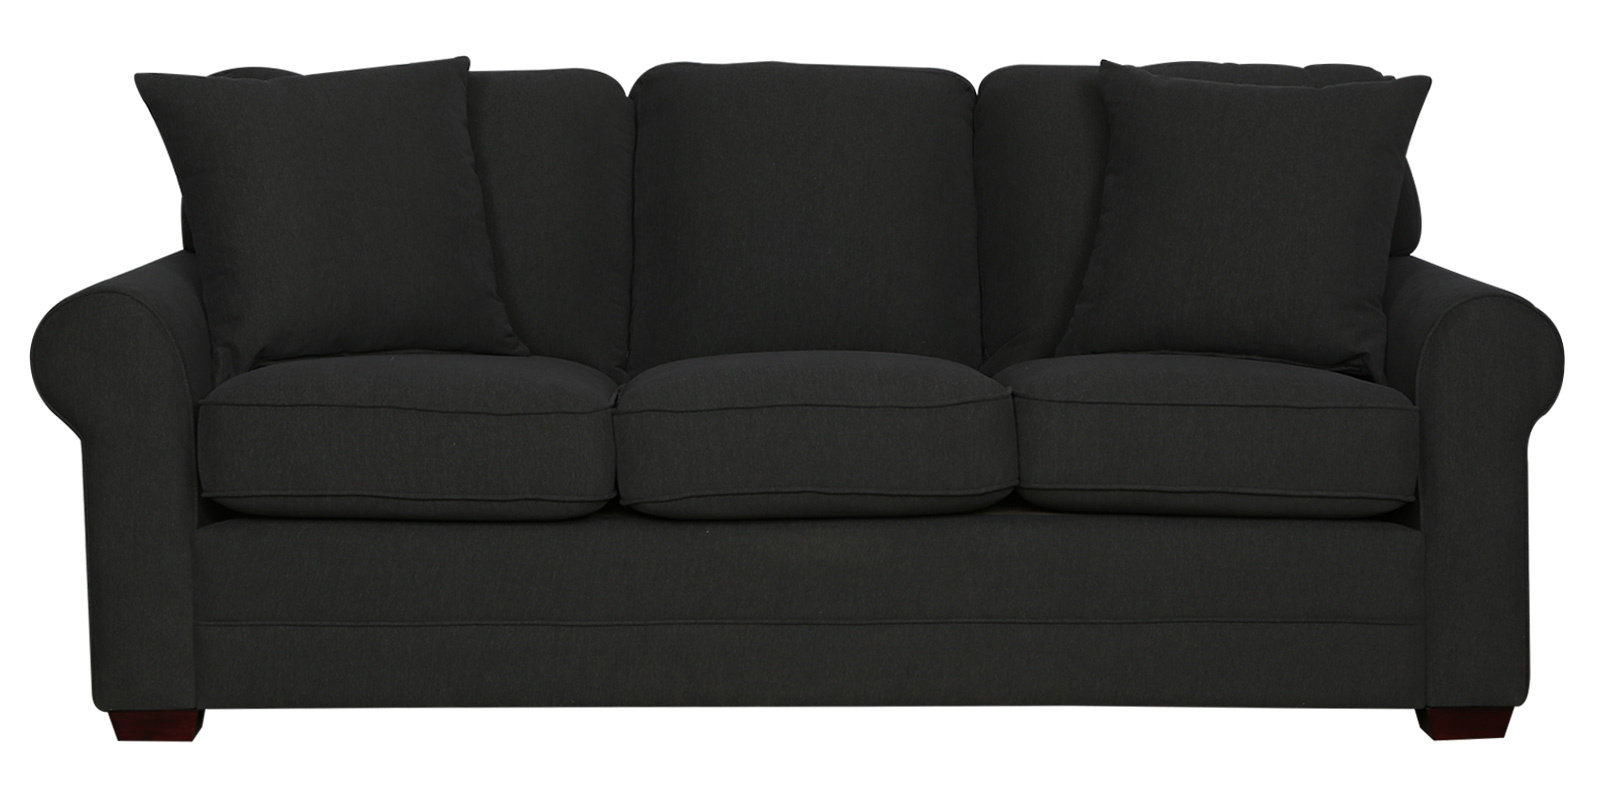Madeira Three Seater Sofa in Charcoal Grey Colour by CasaCraft: (28, 54, 1567, 739)
